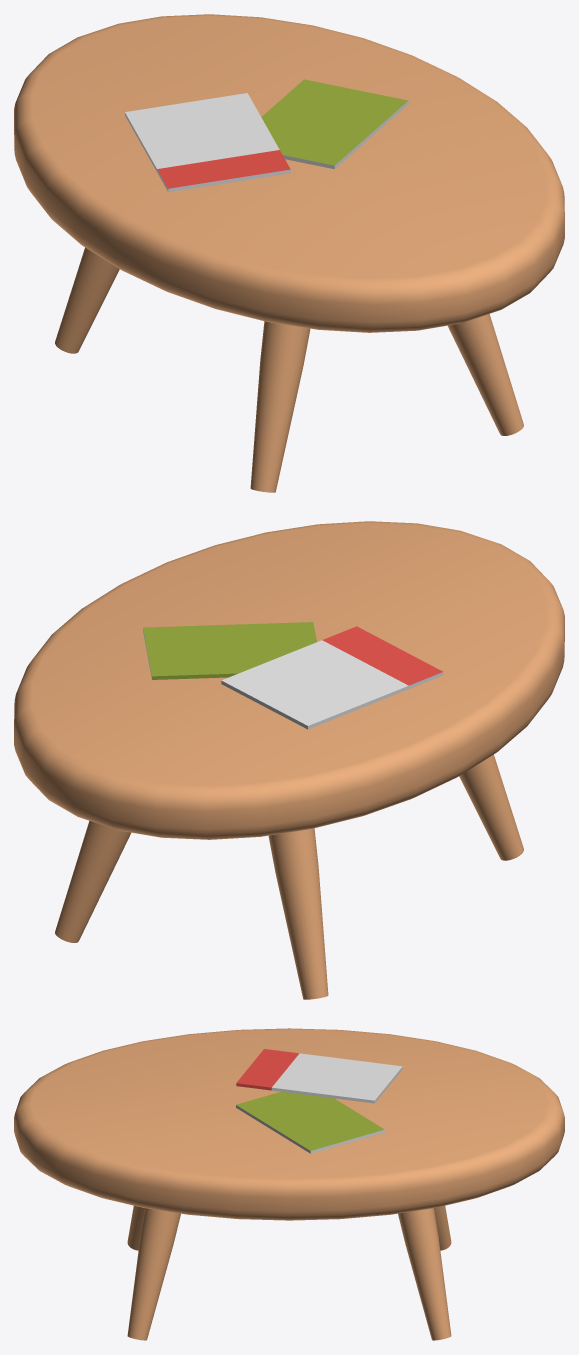
Rendered from 03_Table.fbx.
3 views of the same model, one above another, from view 1: azimuth 30°, elevation 25°; view 2: azimuth 150°, elevation 25°; view 3: azimuth 270°, elevation 25° (orthographic). The views are drawn at different scales.
Visible parts, largest first — view 1: Circle.045, Cylinder.043, Plane.018, Plane.019; view 2: Circle.045, Cylinder.043, Plane.018, Plane.019; view 3: Circle.045, Cylinder.043, Plane.018, Plane.019.
Boxes of the visible parts, x1=… form: Circle.045: x1=14, y1=14, x2=564, y2=332; Cylinder.043: x1=55, y1=247, x2=523, y2=492; Plane.018: x1=125, y1=93, x2=290, y2=192; Plane.019: x1=261, y1=79, x2=408, y2=169; Circle.045: x1=14, y1=521, x2=564, y2=839; Cylinder.043: x1=55, y1=754, x2=523, y2=999; Plane.018: x1=221, y1=626, x2=443, y2=729; Plane.019: x1=143, y1=622, x2=316, y2=679; Circle.045: x1=14, y1=1028, x2=564, y2=1220; Cylinder.043: x1=127, y1=1205, x2=451, y2=1340; Plane.018: x1=236, y1=1049, x2=402, y2=1103; Plane.019: x1=236, y1=1091, x2=384, y2=1153.
Bounding box in the file's own units: 30.68 × 17.69 × 44.52.
